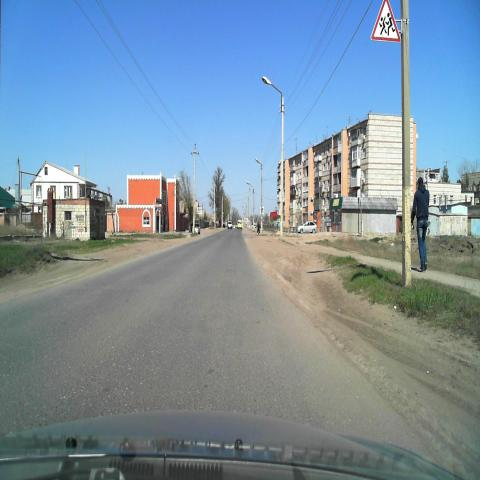1_23: (370, 0, 401, 44)
